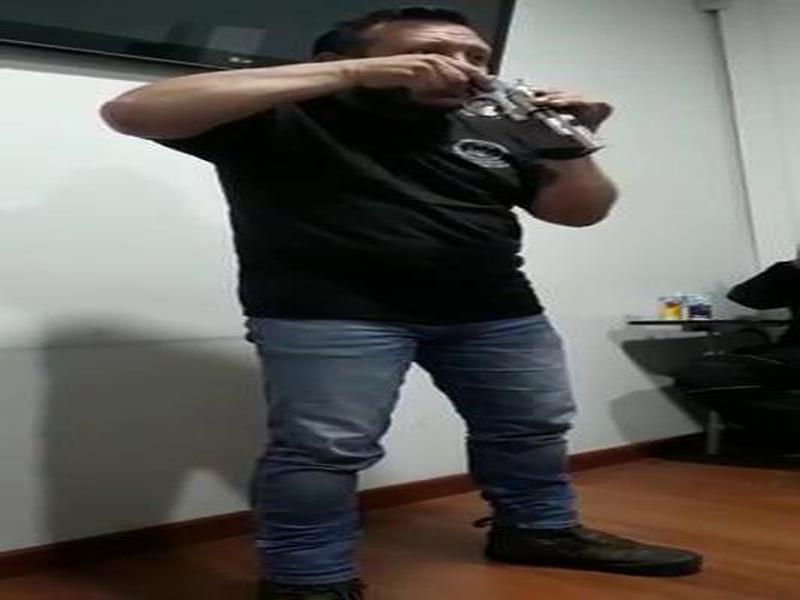Revolver: (412, 43, 629, 167)
